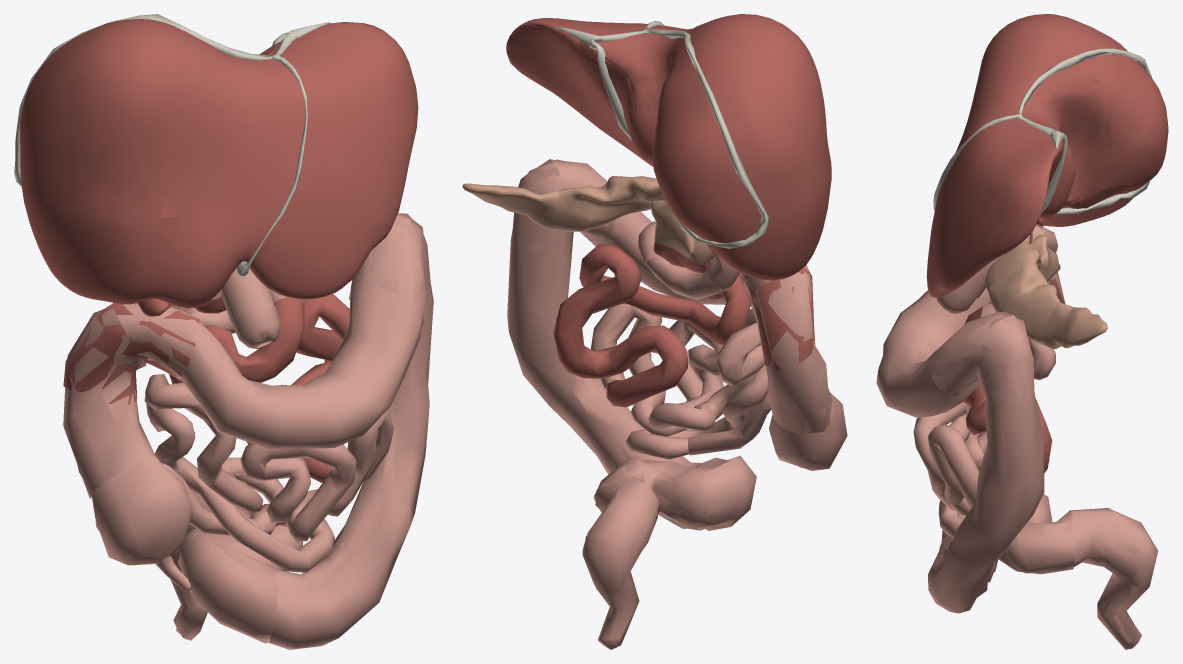
Rendered from adult_female.digestive.LOD2.glb.
3 views of the same model, side by side, from view 1: azimuth 30°, elevation 25°; view 2: azimuth 150°, elevation 25°; view 3: azimuth 270°, elevation 25° (orthographic). The views are drawn at different scales.
Parts seen in each view (by area): view 1: ADULT.FEMALE.DIGESTIVE.CAPSULE_OF_THE_LIVER, ADULT.FEMALE.DIGESTIVE.TRANSVERSE_COLON, ADULT.FEMALE.DIGESTIVE.ILEUM, ADULT.FEMALE.DIGESTIVE.DESCENDING_COLON, ADULT.FEMALE.DIGESTIVE.LEFT_SUPEROMEDIAL_SEGMENT1, ADULT.FEMALE.DIGESTIVE.ASCENDING_COLON, ADULT.FEMALE.DIGESTIVE.SIGMOID_COLON, ADULT.FEMALE.DIGESTIVE.CAECUM, ADULT.FEMALE.DIGESTIVE.JEJENUM, ADULT.FEMALE.DIGESTIVE.LEFT_INFEROMEDIAL_SEGMENT, ADULT.FEMALE.DIGESTIVE.HEPATIC_FLEXURE_OF_COLON, ADULT.FEMALE.DIGESTIVE.SPLENIC_FLEXURE_OF_COLON (+6 smaller); view 2: ADULT.FEMALE.DIGESTIVE.CAPSULE_OF_THE_LIVER, ADULT.FEMALE.DIGESTIVE.BARE_AREA_OF_LIVER, ADULT.FEMALE.DIGESTIVE.DESCENDING_COLON, ADULT.FEMALE.DIGESTIVE.JEJENUM, ADULT.FEMALE.DIGESTIVE.ILEUM, ADULT.FEMALE.DIGESTIVE.RECTUM, ADULT.FEMALE.DIGESTIVE.ASCENDING_COLON, ADULT.FEMALE.DIGESTIVE.SIGMOID_COLON, ADULT.FEMALE.DIGESTIVE.DIAPHRAGMATIC_SURFACE_OF_LIVER, ADULT.FEMALE.DIGESTIVE.BODY_OF_PANCREAS, ADULT.FEMALE.DIGESTIVE.TRANSVERSE_COLON, ADULT.FEMALE.DIGESTIVE.CAECUM (+12 smaller); view 3: ADULT.FEMALE.DIGESTIVE.CAPSULE_OF_THE_LIVER, ADULT.FEMALE.DIGESTIVE.DESCENDING_COLON, ADULT.FEMALE.DIGESTIVE.BARE_AREA_OF_LIVER, ADULT.FEMALE.DIGESTIVE.TRANSVERSE_COLON, ADULT.FEMALE.DIGESTIVE.RECTUM, ADULT.FEMALE.DIGESTIVE.ILEUM, ADULT.FEMALE.DIGESTIVE.BODY_OF_PANCREAS, ADULT.FEMALE.DIGESTIVE.SIGMOID_COLON, ADULT.FEMALE.DIGESTIVE.CAUDATE_LOBE, ADULT.FEMALE.DIGESTIVE.SPLENIC_FLEXURE_OF_COLON, ADULT.FEMALE.DIGESTIVE.TAIL_OF_PANCREAS, ADULT.FEMALE.DIGESTIVE.CORONARY_LIGAMENT_OF_LIVER (+8 smaller).
Part boxes in pixels (x1,y1,x2,y2): ADULT.FEMALE.DIGESTIVE.CAPSULE_OF_THE_LIVER: [19, 19, 418, 308]; ADULT.FEMALE.DIGESTIVE.TRANSVERSE_COLON: [117, 215, 426, 449]; ADULT.FEMALE.DIGESTIVE.ILEUM: [144, 374, 393, 572]; ADULT.FEMALE.DIGESTIVE.DESCENDING_COLON: [267, 214, 433, 649]; ADULT.FEMALE.DIGESTIVE.LEFT_SUPEROMEDIAL_SEGMENT1: [160, 47, 308, 217]; ADULT.FEMALE.DIGESTIVE.ASCENDING_COLON: [63, 308, 155, 498]; ADULT.FEMALE.DIGESTIVE.SIGMOID_COLON: [178, 505, 302, 643]; ADULT.FEMALE.DIGESTIVE.CAECUM: [91, 456, 192, 565]; ADULT.FEMALE.DIGESTIVE.JEJENUM: [169, 294, 349, 482]; ADULT.FEMALE.DIGESTIVE.LEFT_INFEROMEDIAL_SEGMENT: [150, 203, 283, 307]; ADULT.FEMALE.DIGESTIVE.HEPATIC_FLEXURE_OF_COLON: [63, 303, 199, 404]; ADULT.FEMALE.DIGESTIVE.SPLENIC_FLEXURE_OF_COLON: [349, 213, 431, 328]; ADULT.FEMALE.DIGESTIVE.CAPSULE_OF_THE_LIVER: [506, 14, 831, 280]; ADULT.FEMALE.DIGESTIVE.BARE_AREA_OF_LIVER: [588, 35, 761, 242]; ADULT.FEMALE.DIGESTIVE.DESCENDING_COLON: [507, 159, 704, 530]; ADULT.FEMALE.DIGESTIVE.JEJENUM: [553, 244, 751, 407]; ADULT.FEMALE.DIGESTIVE.ILEUM: [591, 304, 768, 459]; ADULT.FEMALE.DIGESTIVE.RECTUM: [582, 479, 659, 649]; ADULT.FEMALE.DIGESTIVE.ASCENDING_COLON: [752, 264, 832, 434]; ADULT.FEMALE.DIGESTIVE.SIGMOID_COLON: [593, 455, 756, 530]; ADULT.FEMALE.DIGESTIVE.DIAPHRAGMATIC_SURFACE_OF_LIVER: [506, 24, 798, 276]; ADULT.FEMALE.DIGESTIVE.BODY_OF_PANCREAS: [555, 176, 656, 231]; ADULT.FEMALE.DIGESTIVE.TRANSVERSE_COLON: [551, 159, 807, 307]; ADULT.FEMALE.DIGESTIVE.CAECUM: [769, 392, 847, 470]; ADULT.FEMALE.DIGESTIVE.CAPSULE_OF_THE_LIVER: [926, 14, 1135, 297]; ADULT.FEMALE.DIGESTIVE.DESCENDING_COLON: [928, 315, 1044, 613]; ADULT.FEMALE.DIGESTIVE.BARE_AREA_OF_LIVER: [1025, 55, 1168, 210]; ADULT.FEMALE.DIGESTIVE.TRANSVERSE_COLON: [876, 288, 1016, 417]; ADULT.FEMALE.DIGESTIVE.RECTUM: [1069, 508, 1157, 649]; ADULT.FEMALE.DIGESTIVE.ILEUM: [913, 339, 1055, 537]; ADULT.FEMALE.DIGESTIVE.BODY_OF_PANCREAS: [985, 248, 1059, 346]; ADULT.FEMALE.DIGESTIVE.SIGMOID_COLON: [941, 494, 1074, 574]; ADULT.FEMALE.DIGESTIVE.CAUDATE_LOBE: [1023, 71, 1112, 217]; ADULT.FEMALE.DIGESTIVE.SPLENIC_FLEXURE_OF_COLON: [932, 311, 1034, 415]; ADULT.FEMALE.DIGESTIVE.TAIL_OF_PANCREAS: [1043, 302, 1107, 349]; ADULT.FEMALE.DIGESTIVE.CORONARY_LIGAMENT_OF_LIVER: [1019, 48, 1151, 215].
Bounding box in the file's own units: 0.2531 × 0.4461 × 0.2011.
